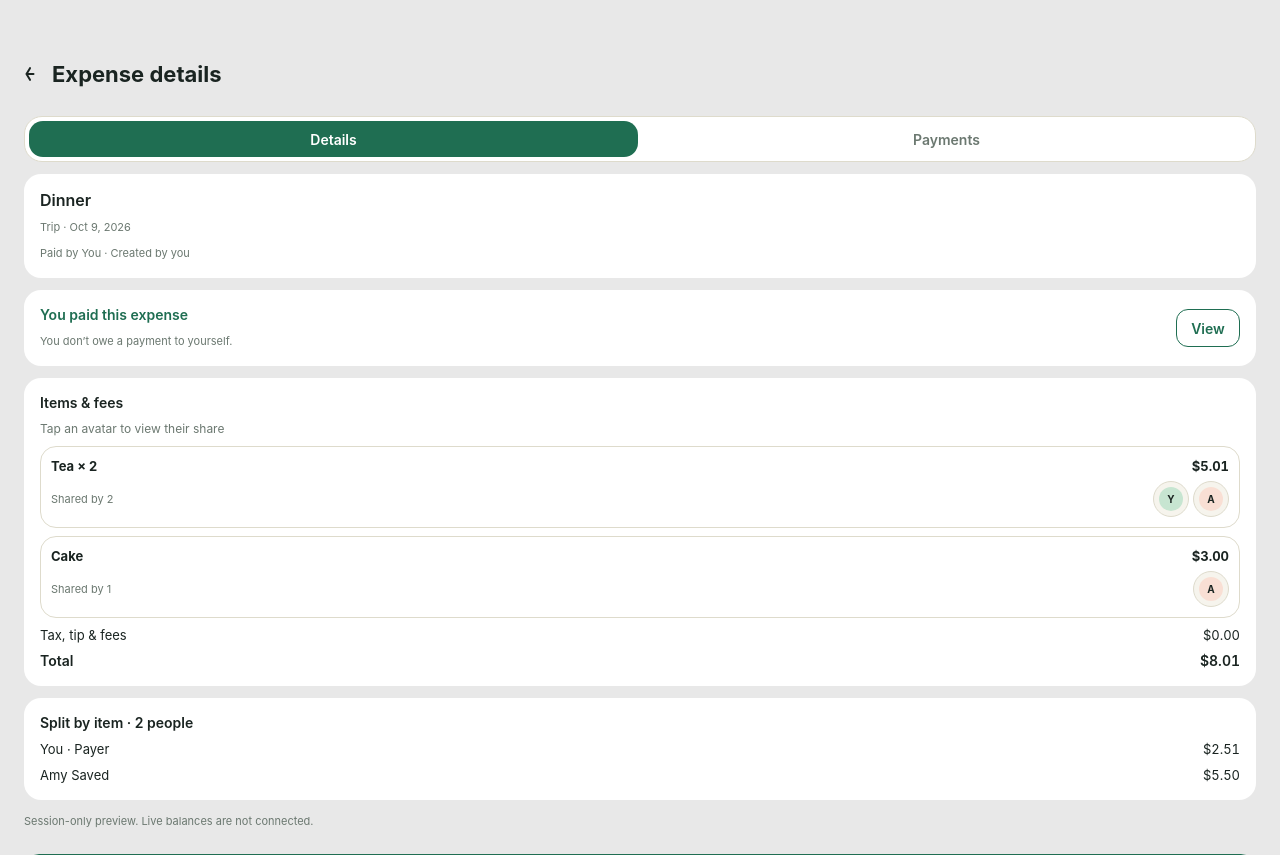
Scenario: shows only assigned members with exact item amounts and historical names
This screenshot has width=1280, height=855.
Expected: the text "Tea × 2" is shown, [51,458,97,474]
Click the button named "View You’s share of Tea". click: click(1171, 499)
box: [1153,481,1189,517]
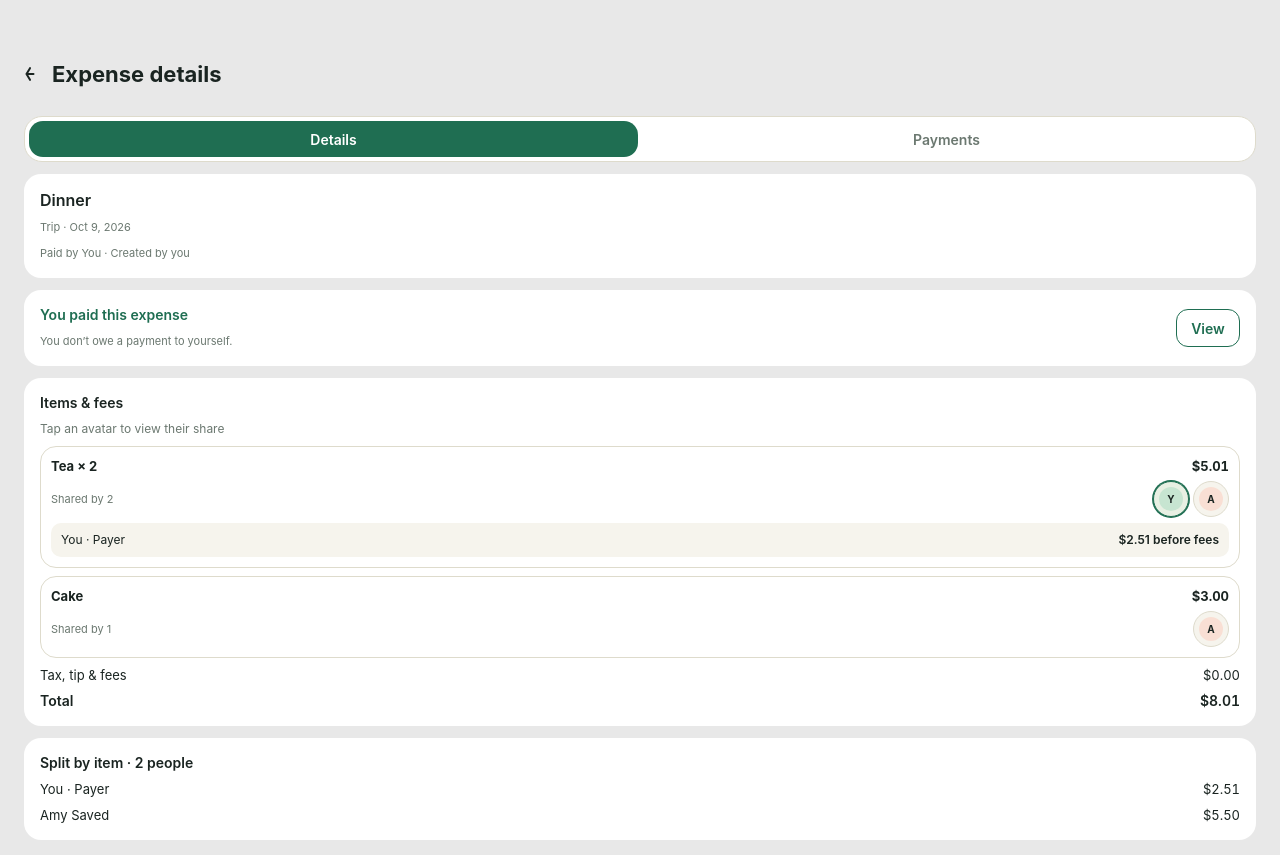
Now the message shows "You · Payer", box [51,523,1229,557]
Now the message shows "$2.51 before fees", box [1118,532,1219,547]
Click the button named "View Amy Saved’s share of Tea". click: click(1211, 499)
box: [1193,481,1229,517]
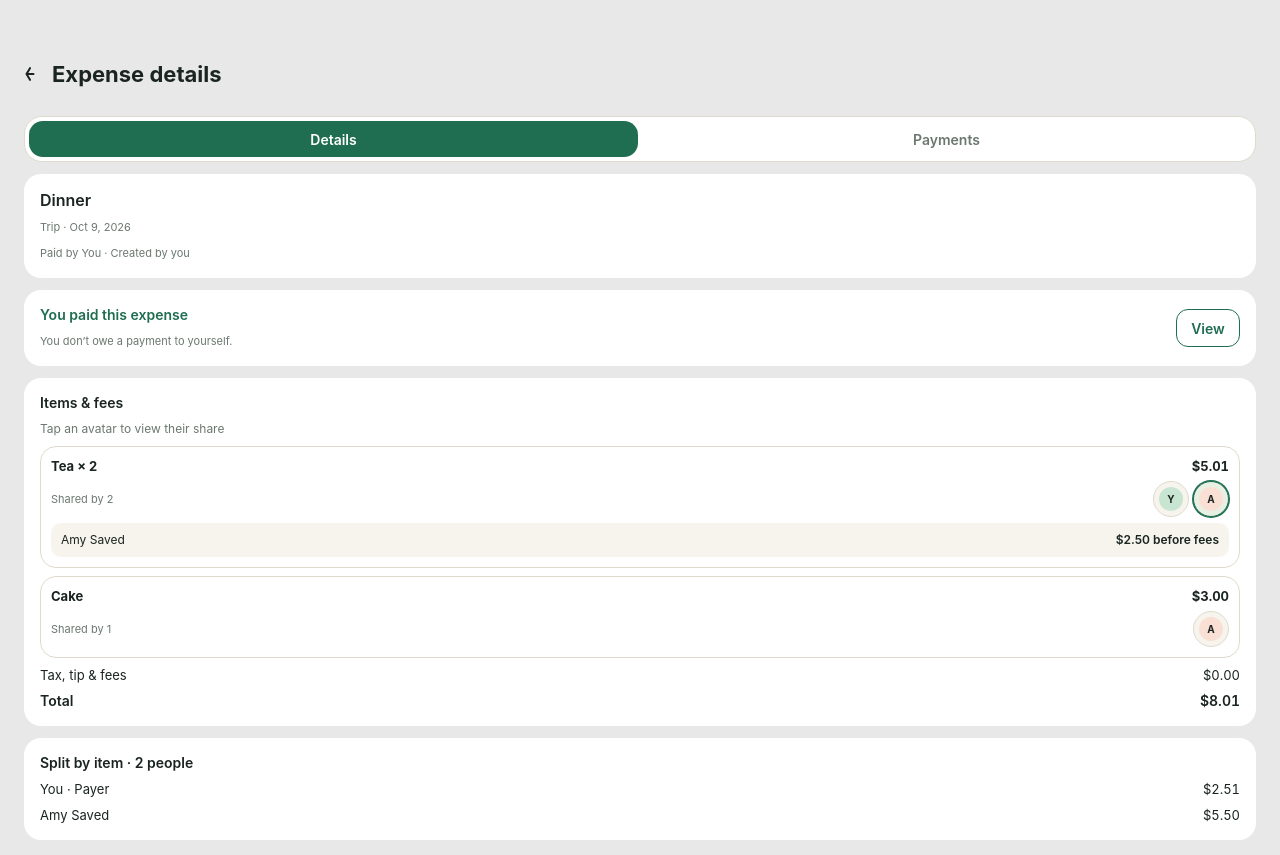
Now the message shows "Amy Saved", box [61,532,125,547]
Now the message shows "$2.50 before fees", box [1116,532,1219,547]
Click the button named "View Amy Saved’s share of Tea". click: click(1211, 499)
box: [1193,481,1229,517]
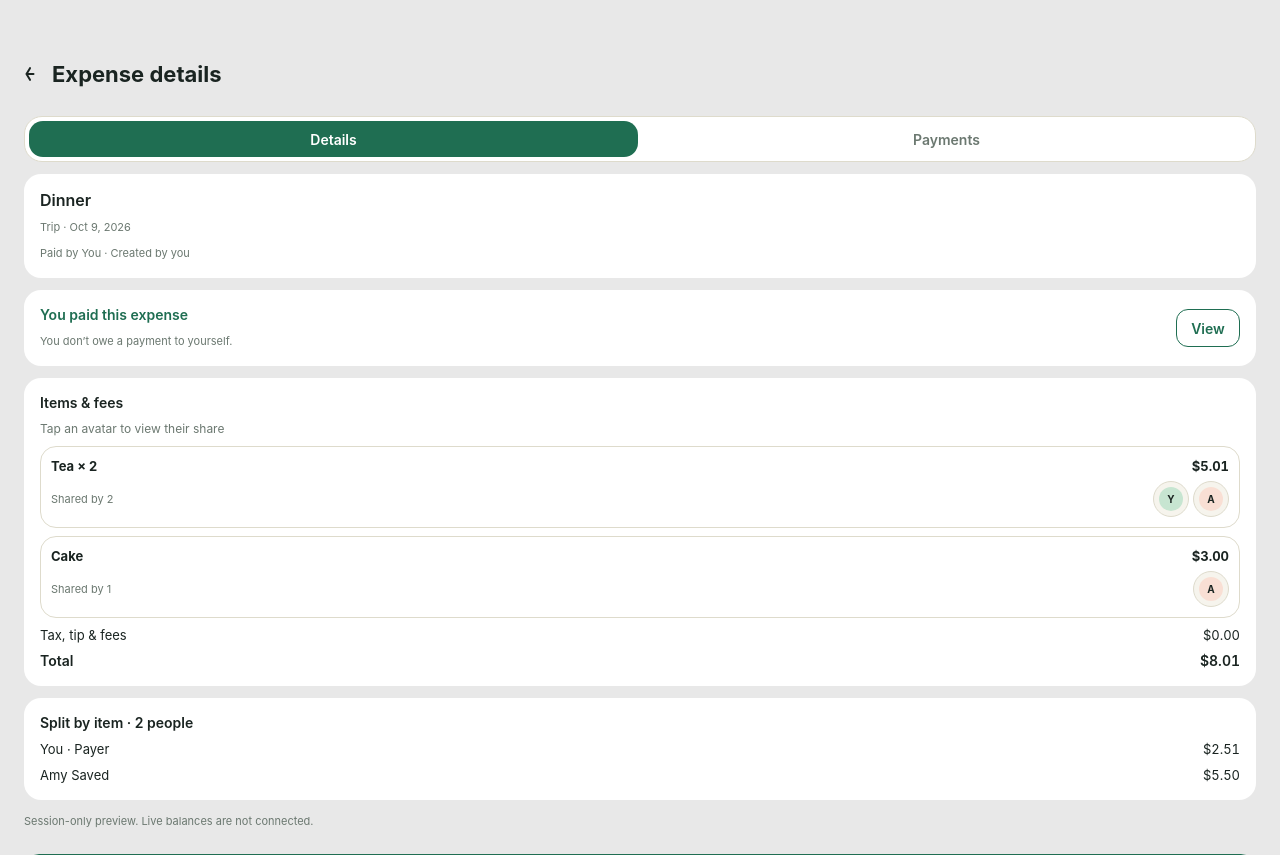
Now the message "Amy Saved $2.50 before fees" is gone
